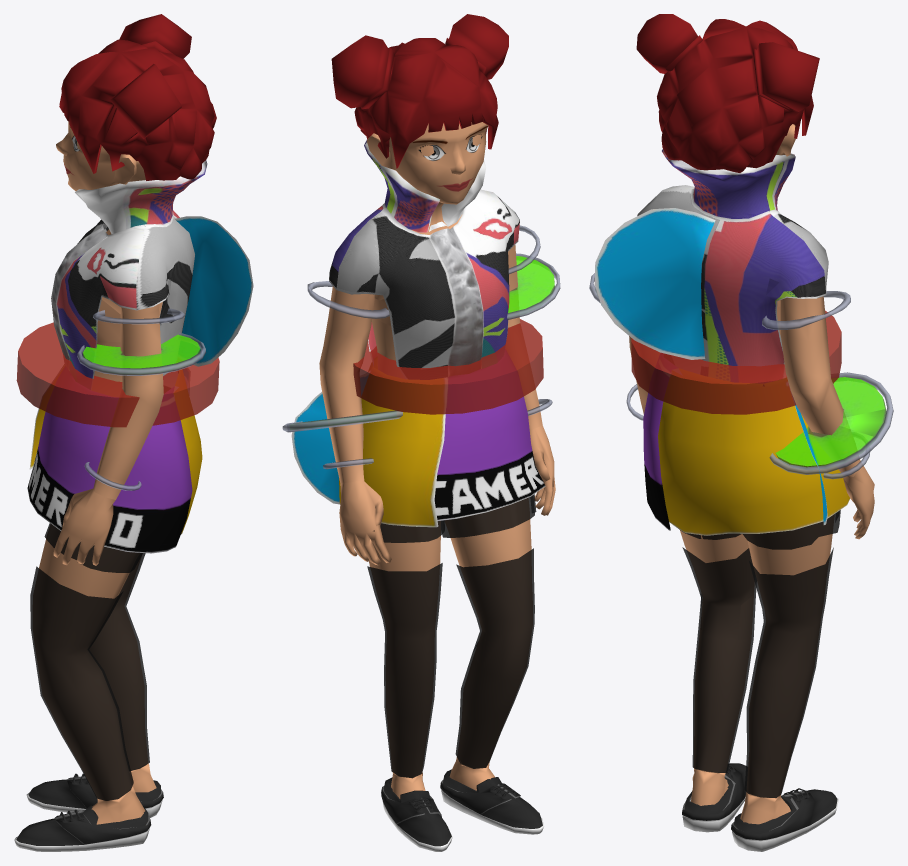
The model's file is DCL.glb.
The picture shows the model from 3 angles, left to right: view 1: azimuth 30°, elevation 25°; view 2: azimuth 150°, elevation 25°; view 3: azimuth 270°, elevation 25°; orthographic projection. The views are drawn at different scales.
Visible parts, largest first — view 1: TH; view 2: TH; view 3: TH.
Boxes of the visible parts, <box> form: TH: <box>14,14,253,851</box>; TH: <box>282,14,560,851</box>; TH: <box>589,14,893,851</box>.
Bounding box in the file's own units: 1.74 × 6.09 × 2.06.
10 materials, 8 textured.
